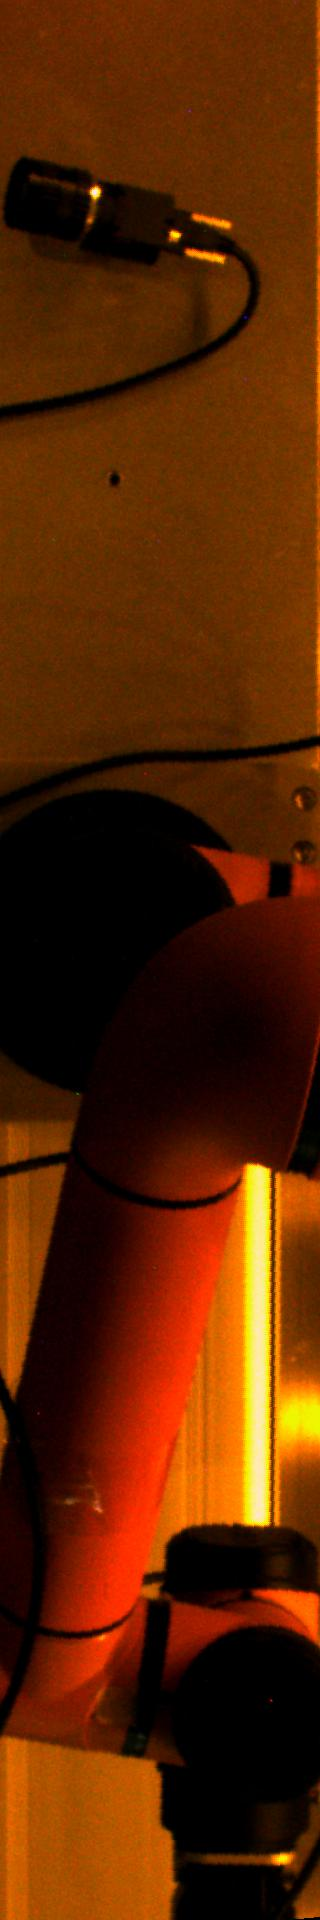keyPoint_2: (99, 465, 129, 495)
